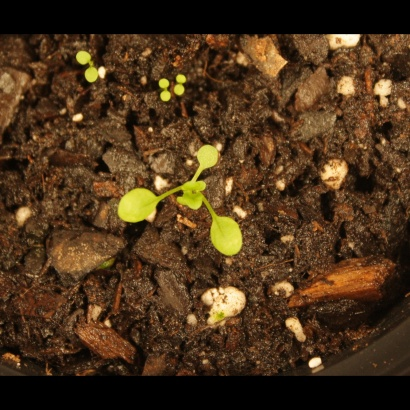leaf: (202, 217, 251, 260), (107, 187, 162, 224), (174, 170, 212, 196), (193, 144, 226, 171), (176, 194, 210, 218), (76, 65, 106, 88), (73, 44, 96, 67), (153, 92, 176, 115), (171, 85, 194, 108), (148, 68, 171, 91), (172, 64, 195, 87)
